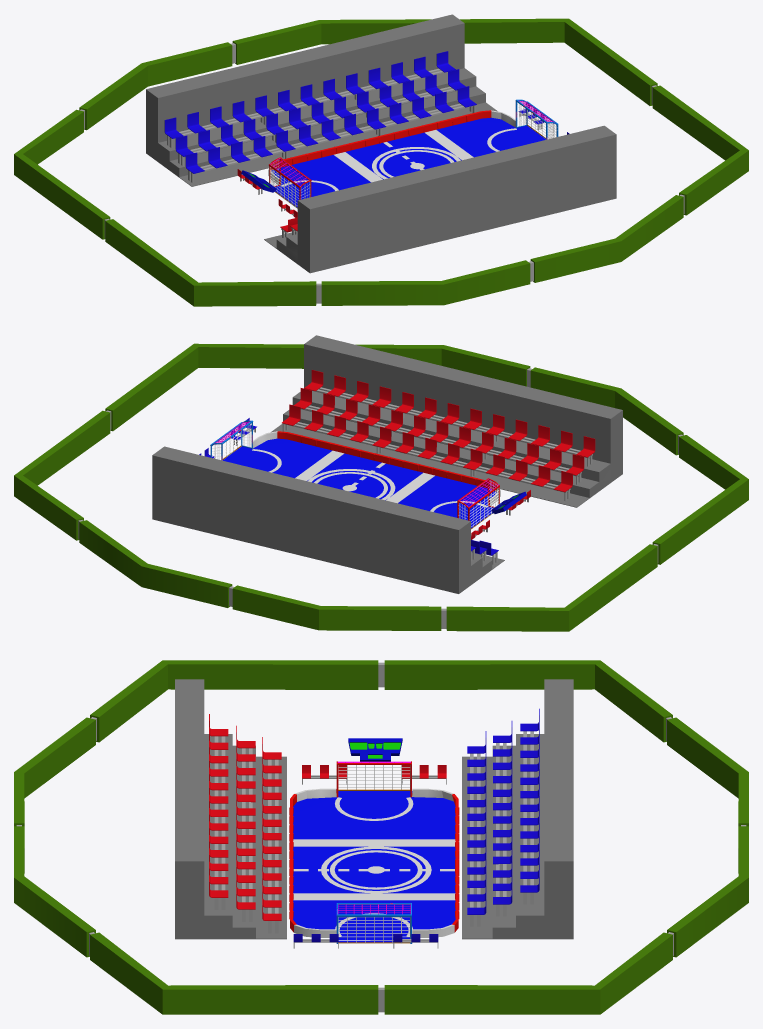
The model's file is stad.fbx.
The picture shows the model from 3 angles, top to bottom: view 1: azimuth 30°, elevation 25°; view 2: azimuth 150°, elevation 25°; view 3: azimuth 270°, elevation 25°; orthographic projection. The views are drawn at different scales.
Parts seen in each view (by area): view 1: reklam panoları, mavi oturaklar, kırmızı oturaklar, saha.002, saha.001, Plane.001, saha.006, Circle; view 2: reklam panoları, kırmızı oturaklar, mavi oturaklar, saha.002, saha.001, Plane.001, saha.006, Circle; view 3: reklam panoları, mavi oturaklar, kırmızı oturaklar, saha.002, Plane.001, Circle, saha.006, saha.001, skor tablosu, kırmızı oturaklar.001, kırmızı oturaklar.002, Circle.001.
Boxes of the visible parts, x1,y1,x2,y2 form: reklam panoları: [14, 18, 748, 306]; mavi oturaklar: [146, 14, 497, 186]; kırmızı oturaklar: [264, 125, 616, 273]; saha.002: [270, 110, 545, 207]; saha.001: [268, 157, 311, 208]; Plane.001: [333, 130, 473, 182]; saha.006: [515, 99, 558, 139]; Circle: [372, 147, 460, 179]; reklam panoları: [14, 343, 748, 631]; kırmızı oturaklar: [271, 335, 622, 507]; mavi oturaklar: [152, 446, 504, 593]; saha.002: [223, 431, 497, 528]; saha.001: [457, 478, 499, 529]; Plane.001: [295, 450, 434, 503]; saha.006: [210, 420, 253, 460]; Circle: [307, 469, 395, 499]; reklam panoları: [14, 660, 748, 1014]; mavi oturaklar: [462, 679, 573, 939]; kırmızı oturaklar: [175, 679, 286, 939]; saha.002: [289, 789, 459, 942]; Plane.001: [293, 839, 455, 900]; Circle: [321, 846, 431, 893]; saha.006: [336, 903, 411, 943]; saha.001: [336, 761, 411, 797]; skor tablosu: [348, 738, 402, 761]; kırmızı oturaklar.001: [302, 765, 446, 784]; kırmızı oturaklar.002: [293, 934, 438, 948]; Circle.001: [335, 797, 413, 936].
Size of what is drawn, in the model's own units: 4313 by 476 by 4068.
